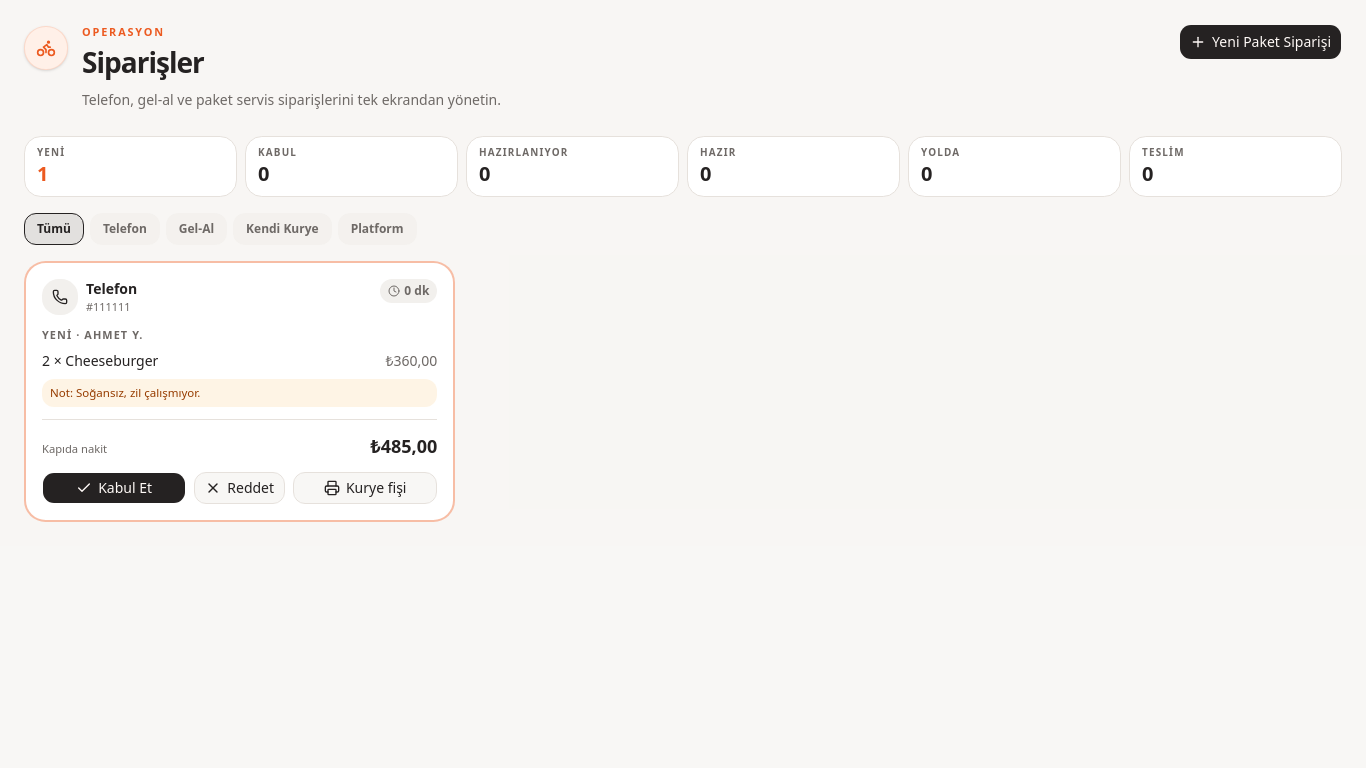
Test: DeliveryInbox › requires a reason before a rejection can be sent
Click the button "Reddet".
click(240, 488)  # box [194, 472, 285, 504]
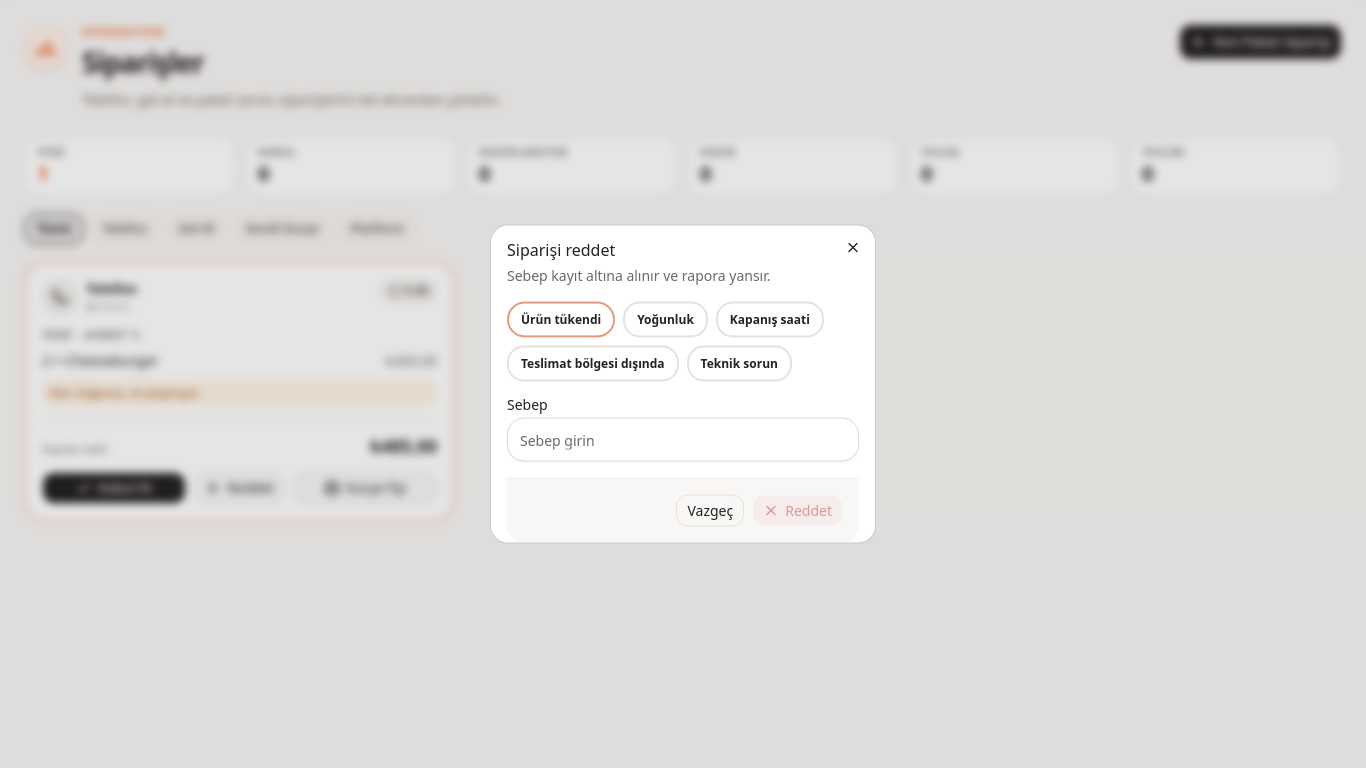
Expected: the button "Reddet" is disabled, [752, 494, 843, 526]
Click the button "Ürün tükendi".
click(561, 320)  # box [507, 302, 615, 338]
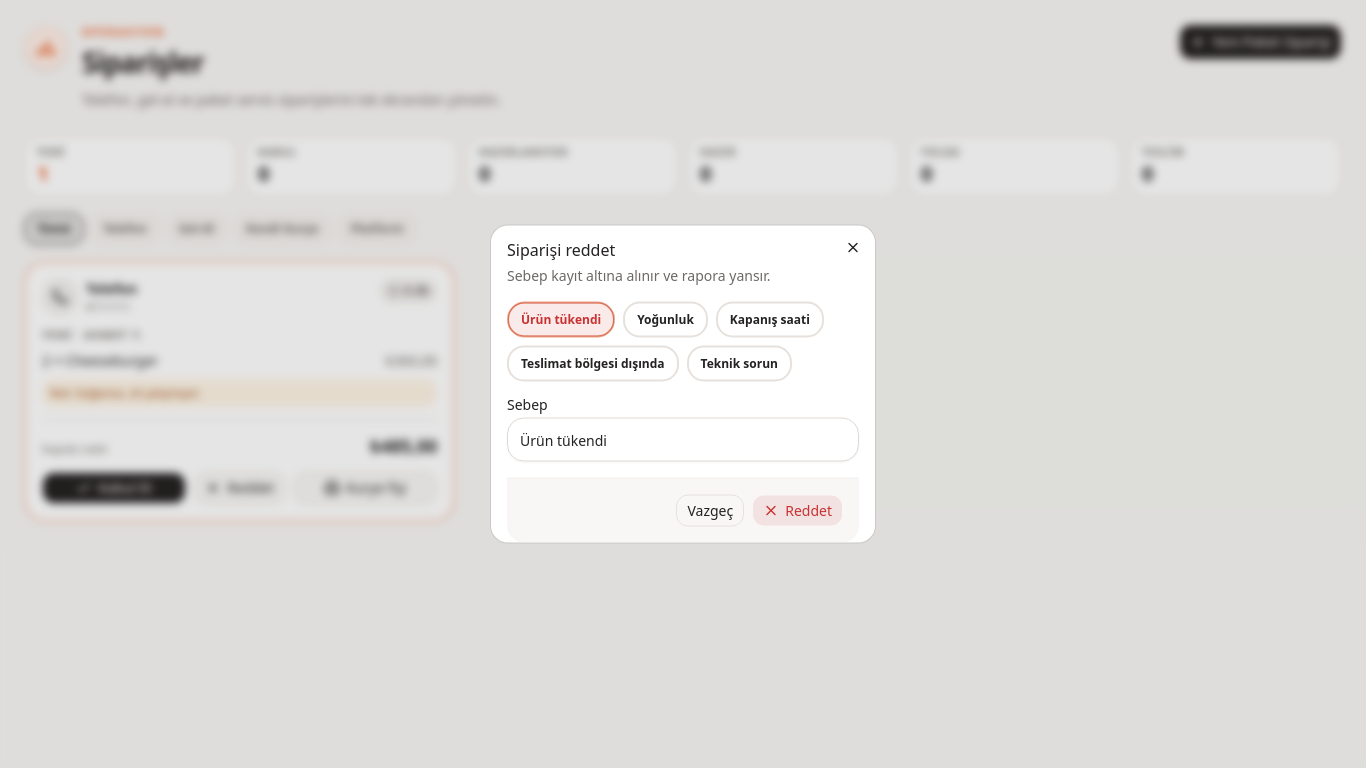
Expected: the button "Reddet" is enabled, [752, 494, 843, 526]
